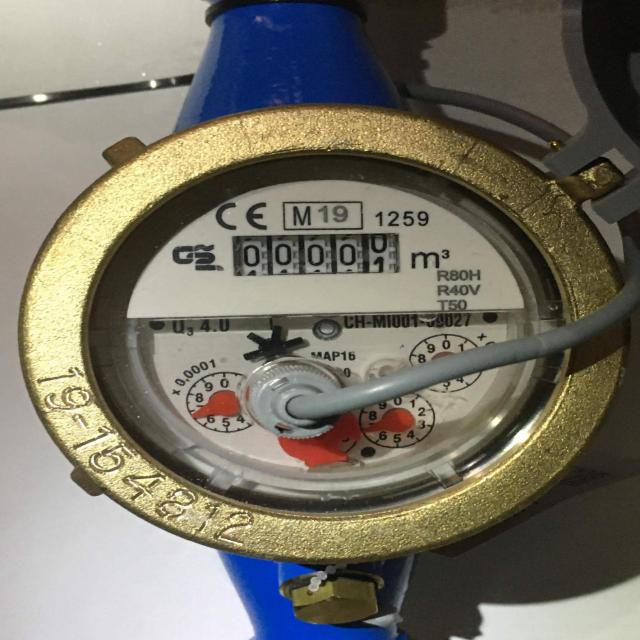gaz_meter: (125, 178, 540, 494)
indication: (228, 233, 402, 277)
